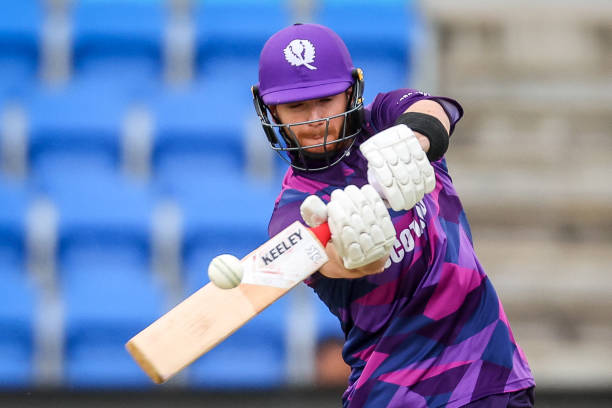bottom left: (107, 325, 149, 361)
bottom right: (140, 363, 181, 395)
top left: (285, 214, 311, 235)
top right: (312, 247, 341, 272)
